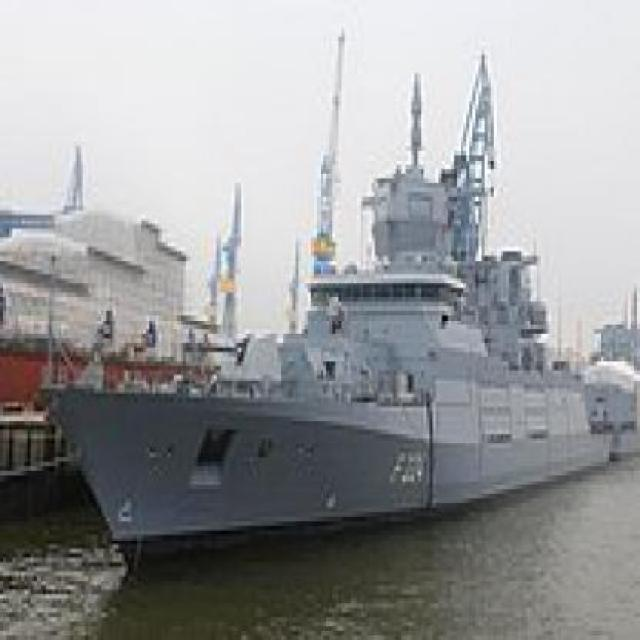warship2: (59, 84, 611, 587)
